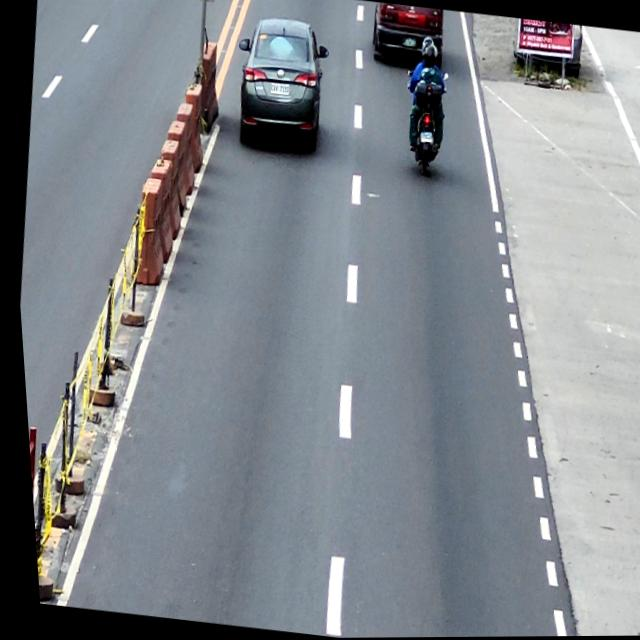Car: (224, 13, 336, 155), (367, 2, 448, 69)
License-Plate: (267, 82, 289, 95), (401, 36, 417, 49), (417, 131, 431, 144)
Motorcycle: (394, 66, 454, 177)
